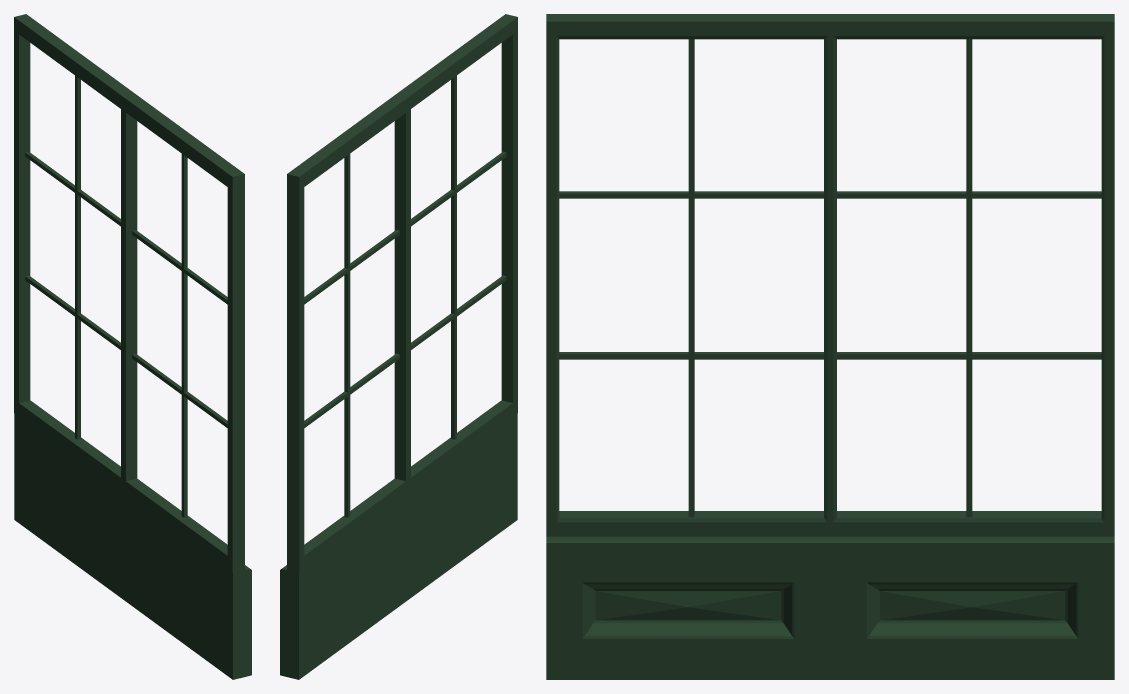
File: greenhouse_wallpiece.gltf
3 views of the same model, side by side, from view 1: azimuth 30°, elevation 25°; view 2: azimuth 150°, elevation 25°; view 3: azimuth 270°, elevation 25° (orthographic). The views are drawn at different scales.
Visible parts, largest first — view 1: Cube; view 2: Cube; view 3: Cube.
Boxes of the visible parts, box(x1,y1,x2,y2) form: Cube: box(14, 14, 251, 679); Cube: box(280, 14, 517, 679); Cube: box(546, 14, 1114, 679).
Size of the model in its own units: 0.1018 by 2.54 by 2.
